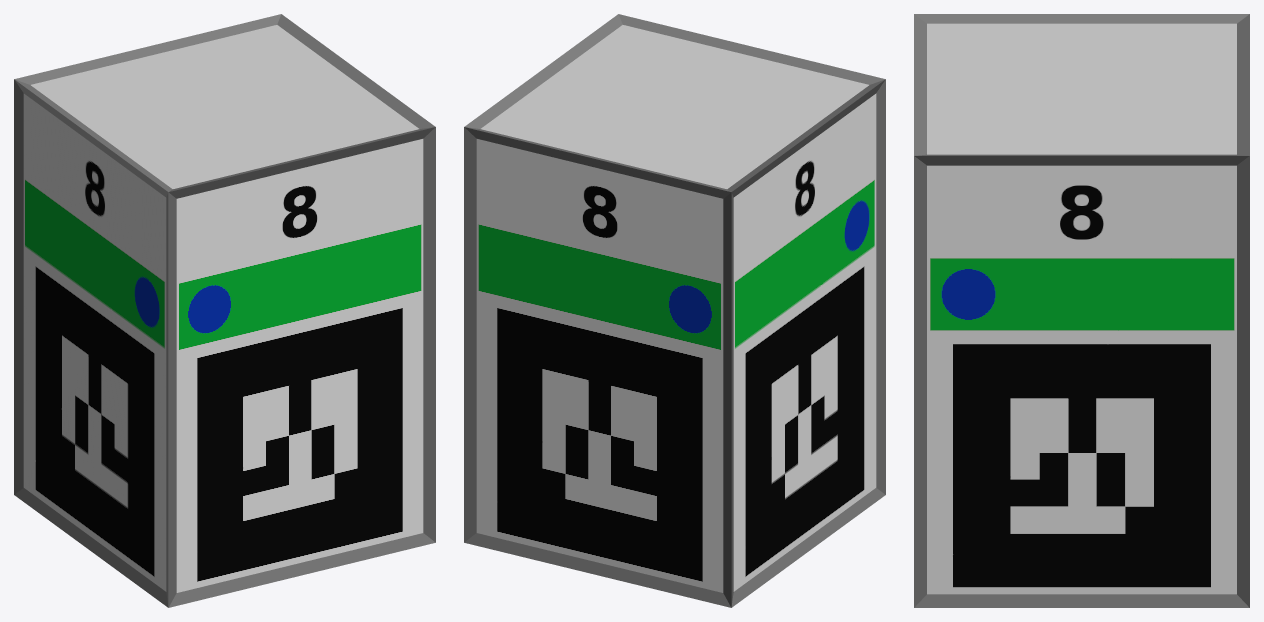
Rendered from marker8.dae.
3 views of the same model, side by side, from view 1: azimuth 30°, elevation 25°; view 2: azimuth 150°, elevation 25°; view 3: azimuth 270°, elevation 25° (orthographic). The views are drawn at different scales.
Visible parts, largest first — view 1: Cube, Cube_001; view 2: Cube, Cube_001; view 3: Cube, Cube_001.
Part boxes in pixels (bbox=[...]): Cube: bbox=[23, 25, 423, 592]; Cube_001: bbox=[14, 14, 435, 607]; Cube: bbox=[476, 25, 876, 592]; Cube_001: bbox=[464, 14, 885, 607]; Cube: bbox=[927, 23, 1236, 594]; Cube_001: bbox=[914, 14, 1249, 607].
Bounding box in the file's own units: 2.06 × 2.06 × 3.06.
3 materials, 1 textured.
